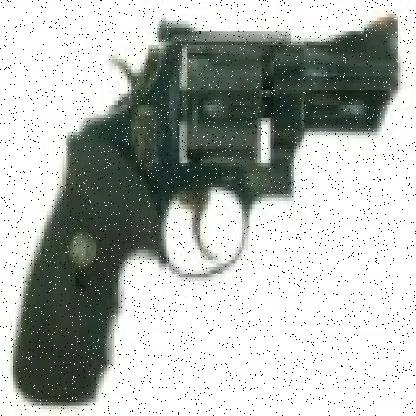pistol: (13, 3, 403, 402)
